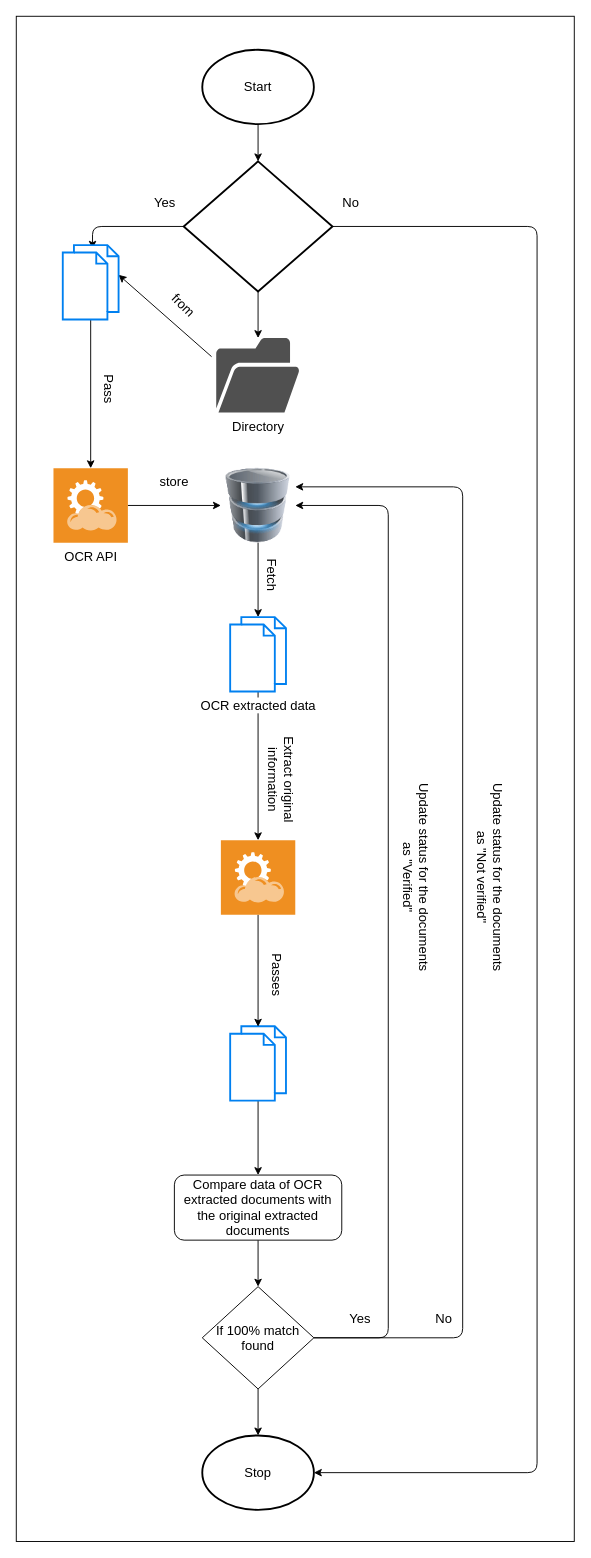
The diagram is 591 pixels wide and 1558 high, and some of its shapes have lost their labels. The box of each missing label's shape, as (x1, y1, x2, y2) in pixels:
Data extraction API: (220, 840, 295, 914)
Extracted documents: (229, 1025, 286, 1101)
PAN card images: (61, 244, 119, 320)
See whether there are new PAN card images in: (182, 160, 333, 292)
